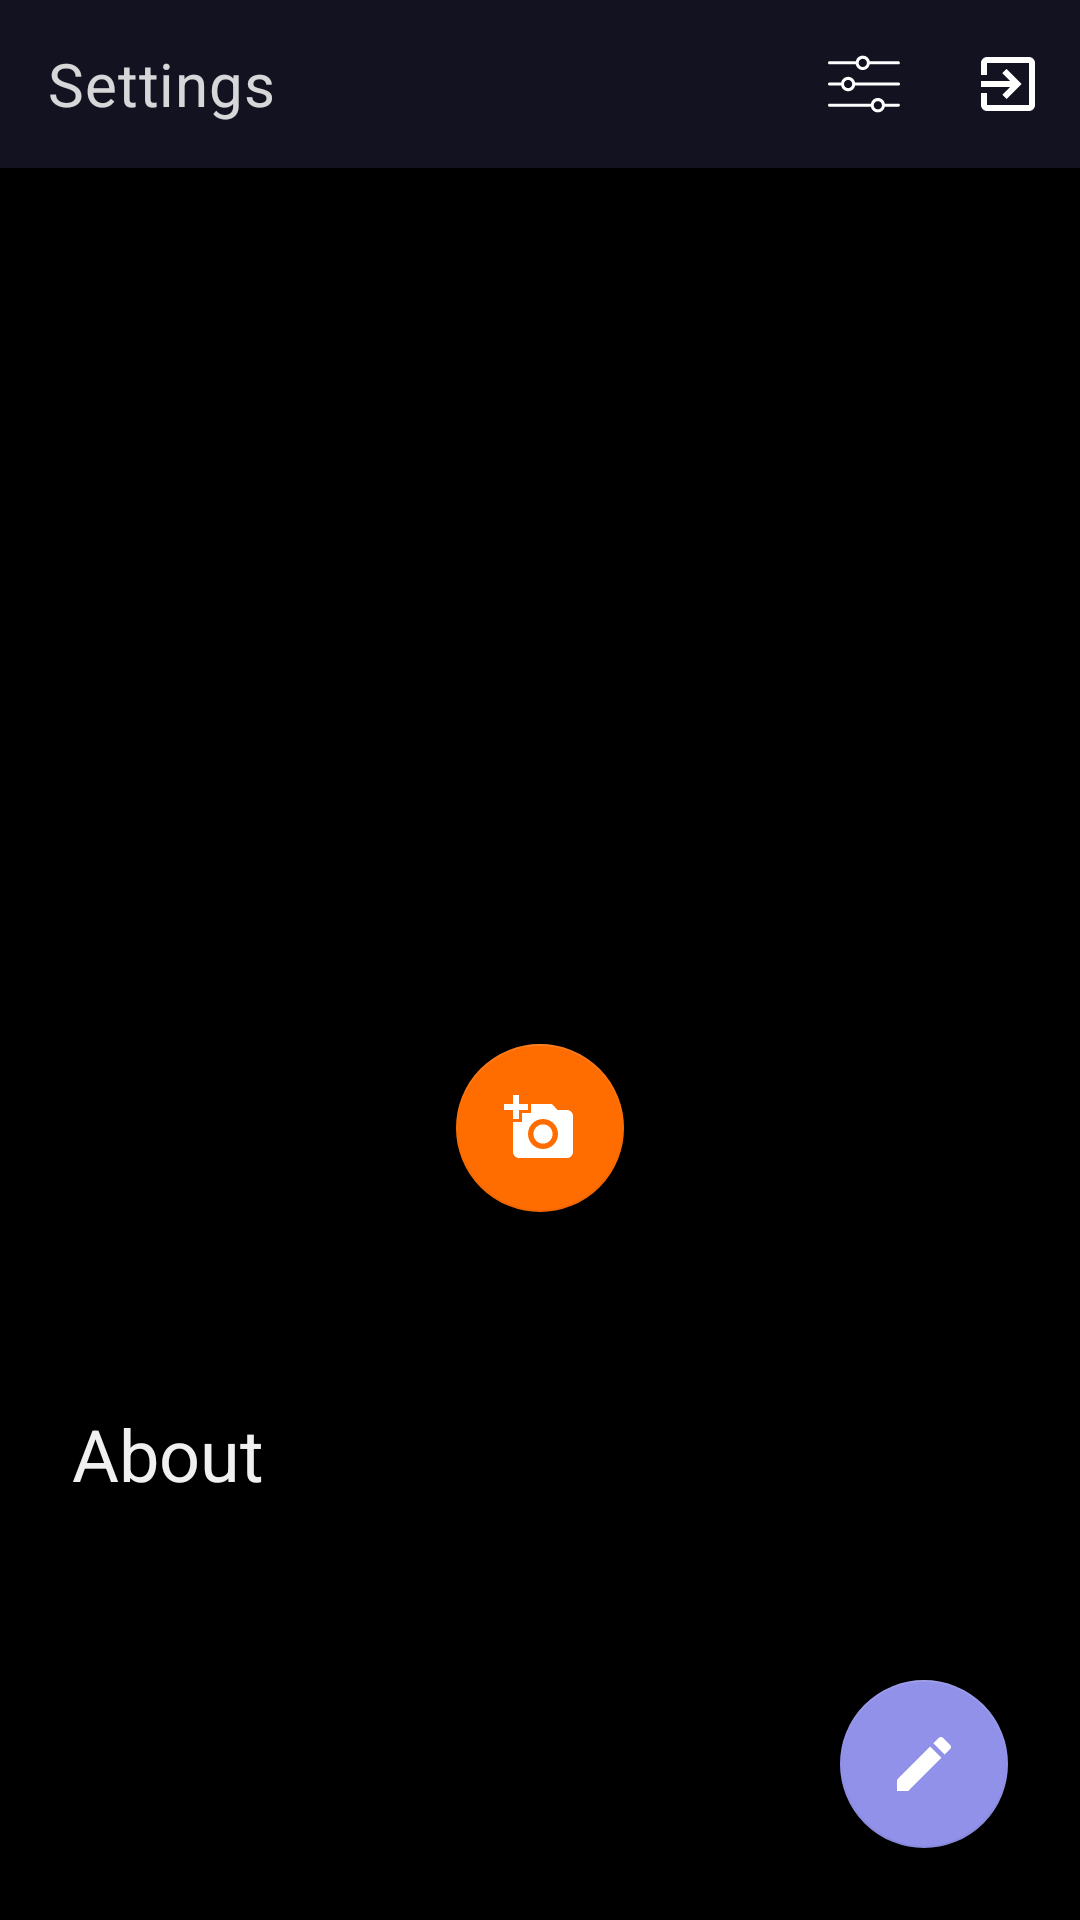

Icons on this 1080×1920 Android screen, each with the point to tap as (x=x, y=y):
add photo: (x=540, y=1128)
create: (x=924, y=1764)
